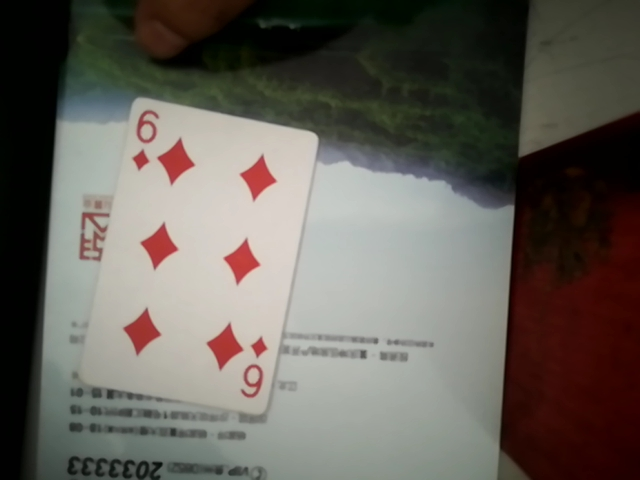fk 6: (76, 97, 320, 422)
